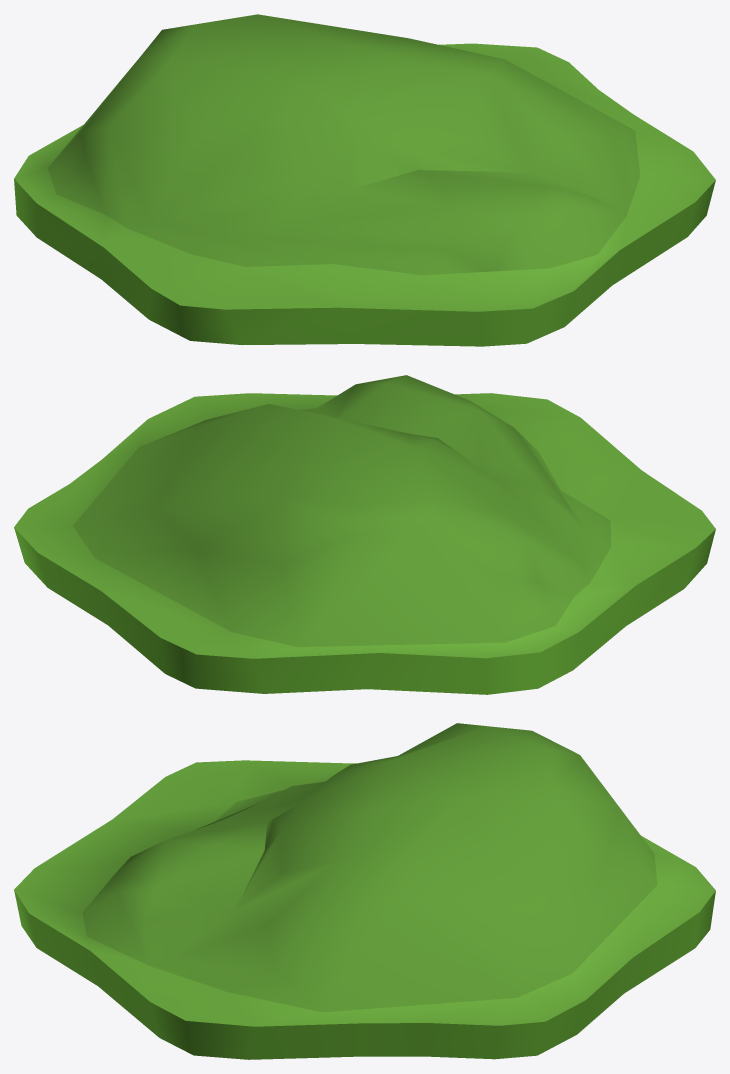
File: Hillside_Landscape00.fbx
3 views of the same model, one above another, from view 1: azimuth 30°, elevation 25°; view 2: azimuth 150°, elevation 25°; view 3: azimuth 270°, elevation 25° (orthographic).
Parts seen in each view (by area): view 1: Hillside_Landscape00; view 2: Hillside_Landscape00; view 3: Hillside_Landscape00.
Part boxes in pixels (x1,y1,x2,y2): Hillside_Landscape00: (14, 14, 715, 346); Hillside_Landscape00: (14, 375, 715, 694); Hillside_Landscape00: (14, 723, 715, 1059).
Size of the model in its own units: 0.9193 by 0.2285 by 1.02.
